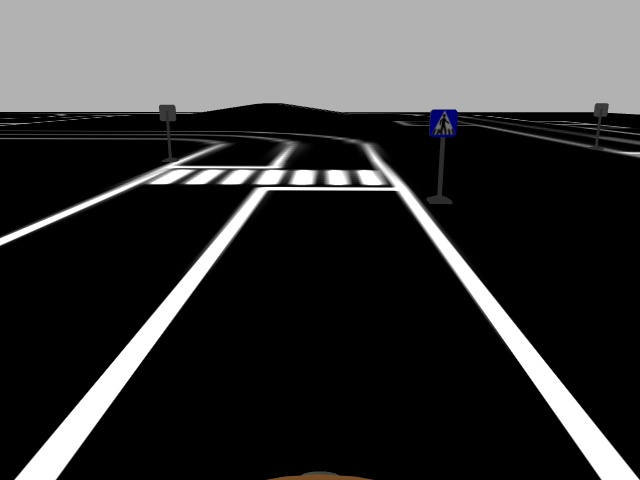crosswalk: (427, 107, 460, 141)
